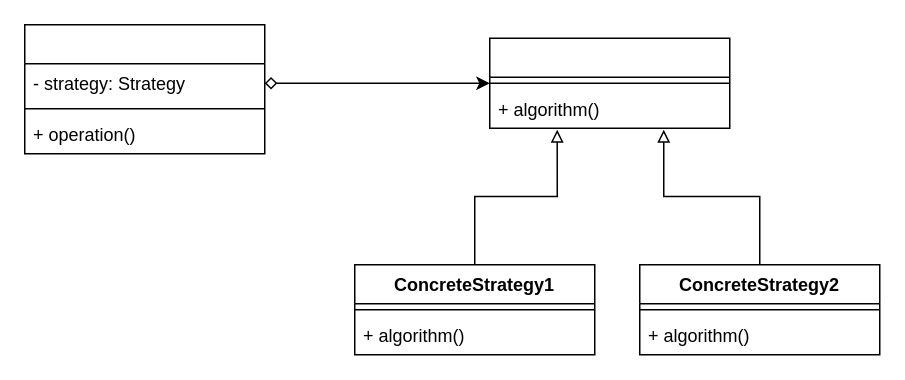
Image size: 905x380. Some labels were removed from this diagram. Here are the shapes that lost their labels. From the top down, the box of each, then its label:
(23, 23, 265, 154): Context
(488, 37, 730, 128): Strategy
